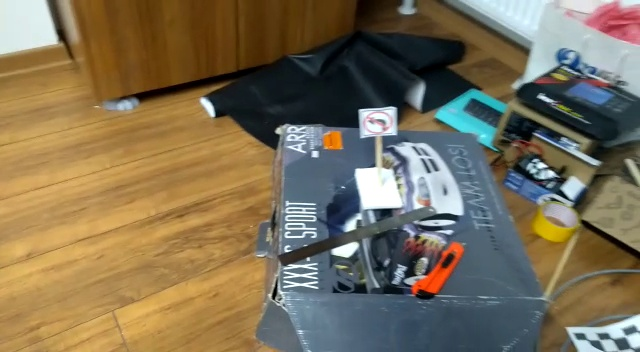sola_donulmez: (362, 110, 396, 136)
